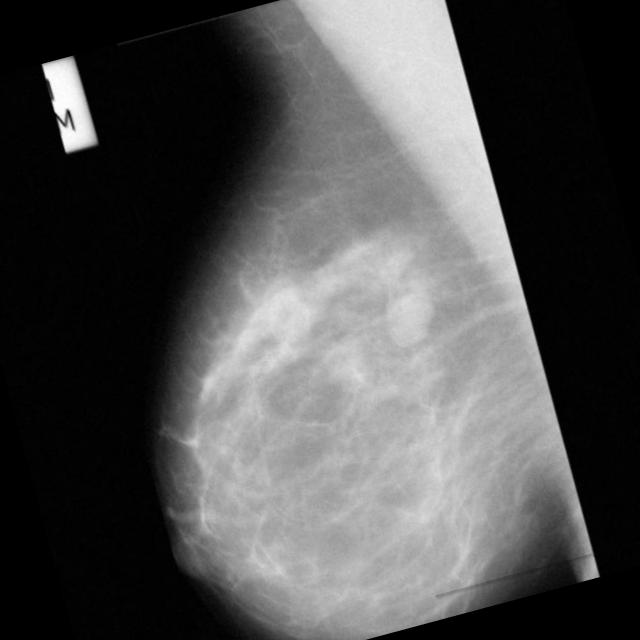CIRC: (374, 280, 448, 356)
